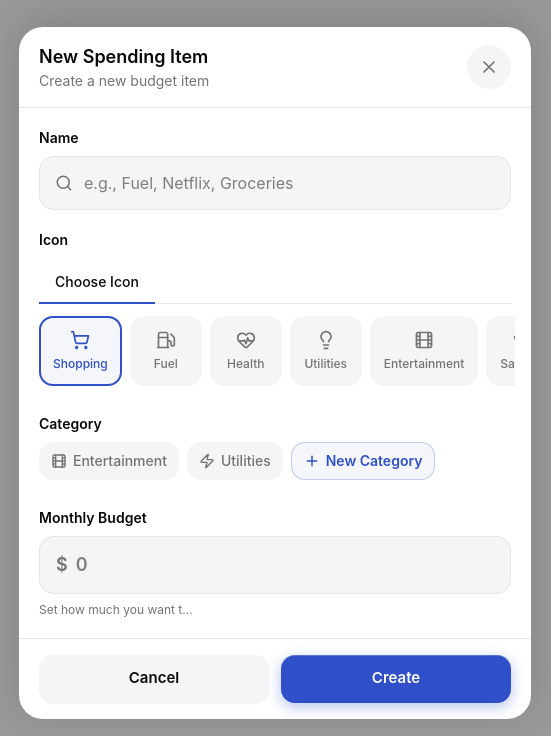
Test: SpendingItemEditPopin — series typeahead › resume selection prefills the form and flips the submit label to Resume
Type "Net" into the dropdown labelled "Name".
click(275, 183); type("Net")  # box [39,156,511,210]
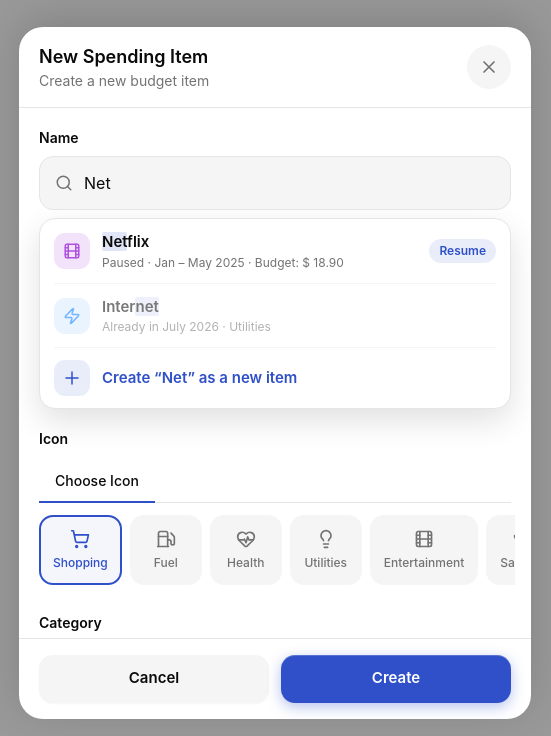
Click the option "Resume".
click(72, 251)  # box [40,219,510,283]
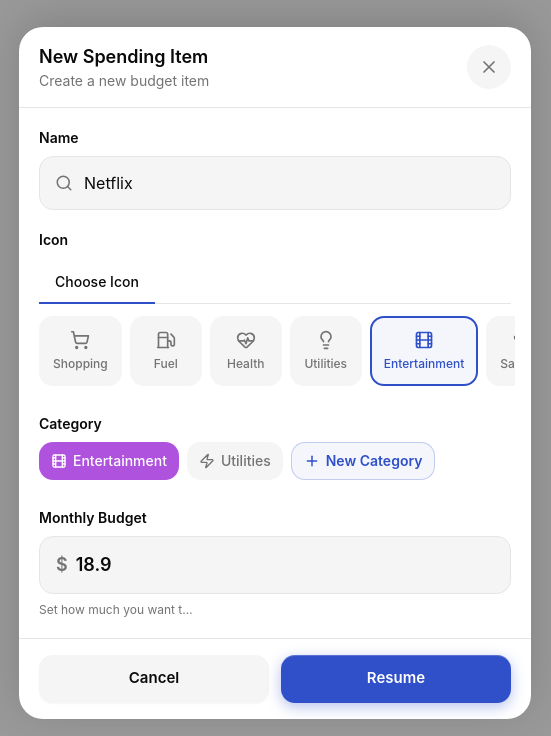
Now the dropdown labelled "Name" holds "Netflix", box [39,156,511,210]
Now the number field named "Monthly budget amount" holds "18.9", box [76,537,494,593]
Now the button "Resume" is shown, box [281,655,511,703]
